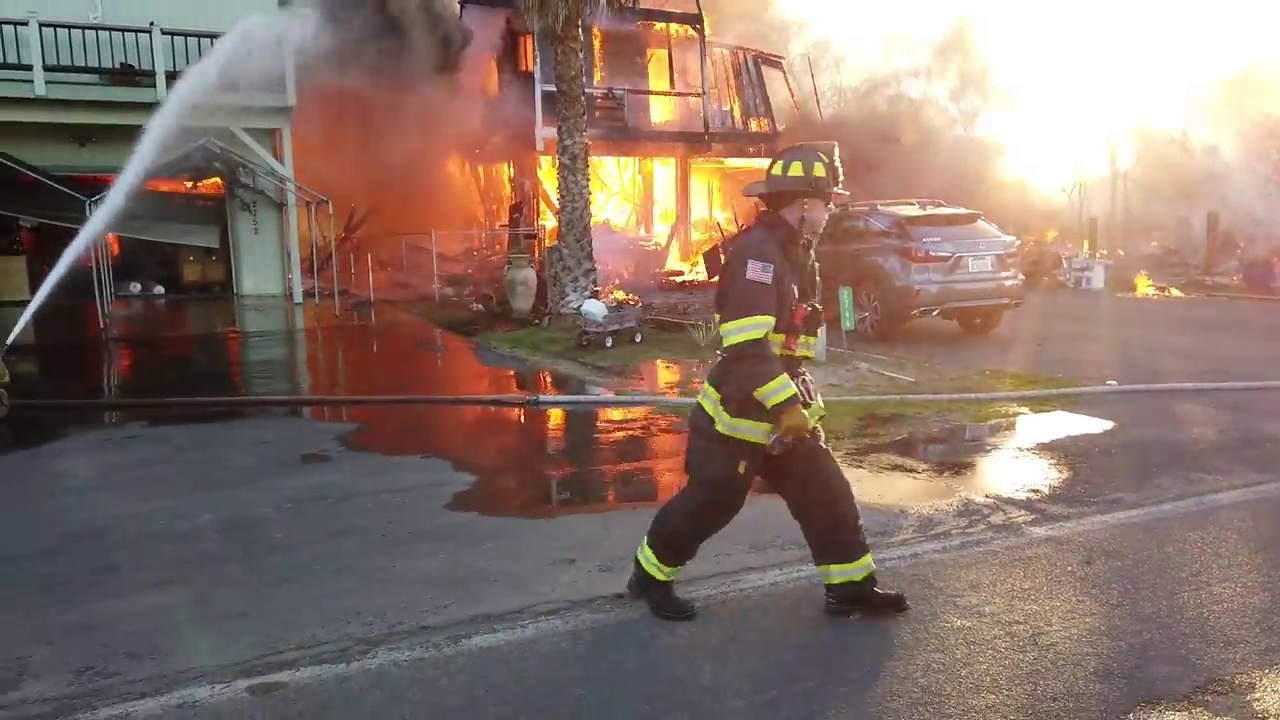fire: (882, 30, 1279, 248), (456, 114, 563, 246), (658, 146, 739, 278), (588, 146, 675, 234), (643, 37, 678, 125), (1122, 269, 1191, 296), (477, 44, 501, 95), (745, 107, 774, 140), (982, 219, 1010, 234), (1070, 234, 1091, 249)
smoke: (1015, 45, 1280, 254), (297, 0, 505, 258)
